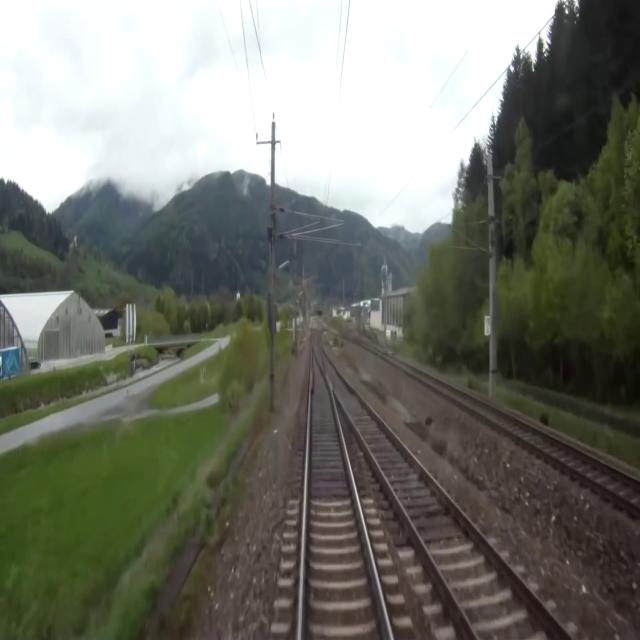rail-track: (325, 356, 564, 639), (408, 368, 640, 505), (302, 351, 389, 639), (313, 325, 324, 369)
